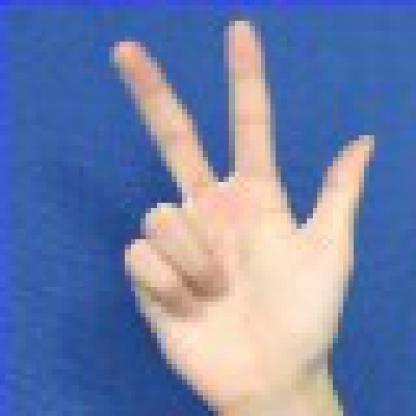eight: (67, 0, 410, 411)
